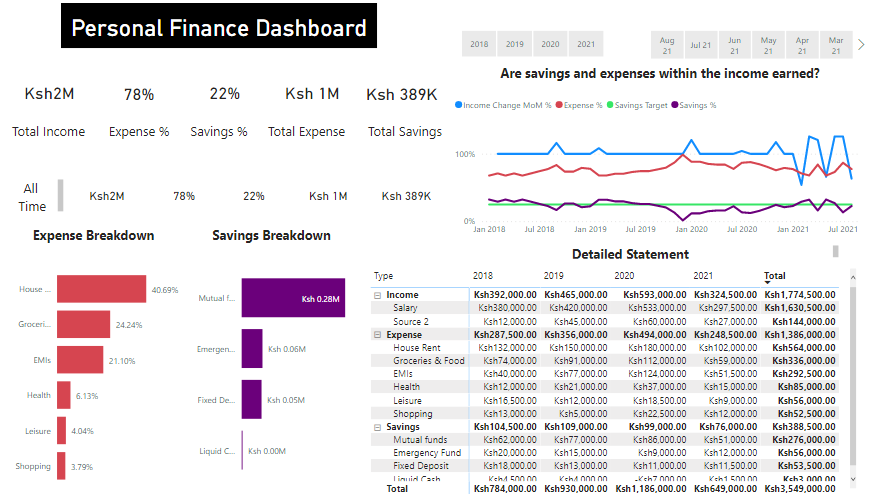

This screenshot's page, from the dashboard's own definition file:
{"tool":"powerbi","page":{"name":"Fin Dashboard","canvas":[1280,720],"ordinal":0},"visuals":[{"type":"card","fields":{"Values":["Key Measures.Total Income"]},"box":[4.3,98.1,134.2,75],"z":0},{"type":"card","fields":{"Values":["Key Measures.Expense %"]},"box":[135.6,98.1,129.9,76.5],"z":1000},{"type":"card","fields":{"Values":["Key Measures.Savings %"]},"box":[265.5,98.1,118.3,75],"z":2000},{"type":"card","fields":{"Values":["Key Measures.Total Expense"]},"box":[383.8,98.1,134.2,75],"z":3000},{"type":"card","fields":{"Values":["Key Measures.Total Savings"]},"box":[518,98.1,122.6,76.5],"z":4000},{"type":"textbox","box":[135.6,173.1,129.9,37.5],"z":5000},{"type":"textbox","box":[4.3,173.1,131.3,37.5],"z":6000},{"type":"textbox","box":[265.5,173.1,101,37.5],"z":7000},{"type":"textbox","box":[366.5,173.1,151.5,37.5],"z":8000},{"type":"textbox","box":[518,173.1,132.7,37.5],"z":9000},{"type":"slicer","fields":{"Values":["FinData.Year"]},"box":[640.6,39,253.9,50.5],"z":10000},{"type":"slicer","fields":{"Values":["FinData.Date"]},"box":[913.3,39,340.5,50.5],"z":11000},{"type":"card","fields":{"Values":["Key Measures.Total Income"]},"box":[96.7,246.7,115.4,75],"z":12000},{"type":"card","fields":{"Values":["Key Measures.Expense %"]},"box":[215,246.7,101,76.5],"z":13000},{"type":"card","fields":{"Values":["Key Measures.Savings %"]},"box":[318.9,246.7,95.2,75],"z":14000},{"type":"card","fields":{"Values":["Key Measures.Total Expense"]},"box":[417,246.7,112.5,75],"z":15000},{"type":"card","fields":{"Values":["Key Measures.Total Savings"]},"box":[532.4,246.7,108.2,76.5],"z":16000},{"type":"textbox","box":[4.3,255.4,92.3,57.7],"z":17000},{"type":"card","fields":{"Values":["Key Measures.Title"]},"box":[88,5.8,456,64.9],"z":18000},{"type":"clusteredBarChart","fields":{"Category":["FinData.Component"],"Y":["Key Measures.Total Expense"]},"box":[4.3,365.1,261.2,354.9],"z":19000},{"type":"clusteredBarChart","fields":{"Category":["FinData.Component"],"Y":["Key Measures.Total Savings"]},"box":[265.5,360.7,278.5,354.9],"z":21000},{"type":"textbox","box":[4.3,323.2,261.2,56.3],"z":22000},{"type":"textbox","box":[265.5,323.2,252.5,56.3],"z":23000},{"type":"lineChart","fields":{"Y":["Key Measures.Income Change MoM %","Key Measures.Expense %","Key Measures.Savings Target","Key Measures.Savings %"],"Category":["FinData.Date"]},"box":[650.7,132.7,604.6,217.9],"z":24000},{"type":"textbox","box":[650.7,89.5,603.1,46.2],"z":24001},{"type":"pivotTable","fields":{"Values":["Key Measures.Value"],"Columns":["FinData.Year","FinData.Date"],"Rows":["Type.Type","FinData.Component"]},"box":[544,379.5,711.3,336.2],"z":24002},{"type":"textbox","box":[611.8,350.6,603.1,28.9],"z":24003}]}

Visuals, with their boxes in screenshot pixels (x1, y1, x2, y2), scaled from the page's 1280x720 canvas onto the 879x497 screenshot:
card - Key Measures.Total Income: detection(3, 68, 95, 119)
card - Key Measures.Expense %: detection(93, 68, 182, 121)
card - Key Measures.Savings %: detection(182, 68, 264, 119)
card - Key Measures.Total Expense: detection(264, 68, 356, 119)
card - Key Measures.Total Savings: detection(356, 68, 440, 121)
textbox: detection(93, 119, 182, 145)
textbox: detection(3, 119, 93, 145)
textbox: detection(182, 119, 252, 145)
textbox: detection(252, 119, 356, 145)
textbox: detection(356, 119, 447, 145)
slicer - FinData.Year: detection(440, 27, 614, 62)
slicer - FinData.Date: detection(627, 27, 861, 62)
card - Key Measures.Total Income: detection(66, 170, 146, 222)
card - Key Measures.Expense %: detection(148, 170, 217, 223)
card - Key Measures.Savings %: detection(219, 170, 284, 222)
card - Key Measures.Total Expense: detection(286, 170, 364, 222)
card - Key Measures.Total Savings: detection(366, 170, 440, 223)
textbox: detection(3, 176, 66, 216)
card - Key Measures.Title: detection(60, 4, 374, 49)
clusteredBarChart - FinData.Component x Key Measures.Total Expense: detection(3, 252, 182, 496)
clusteredBarChart - FinData.Component x Key Measures.Total Savings: detection(182, 249, 374, 494)
textbox: detection(3, 223, 182, 262)
textbox: detection(182, 223, 356, 262)
lineChart - Key Measures.Income Change MoM % x Key Measures.Expense %: detection(447, 92, 862, 242)
textbox: detection(447, 62, 861, 94)
pivotTable - Key Measures.Value x FinData.Year: detection(374, 262, 862, 494)
textbox: detection(420, 242, 834, 262)
